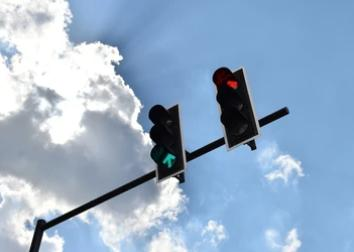green_light: (149, 103, 186, 183)
red_light: (212, 66, 261, 151)
